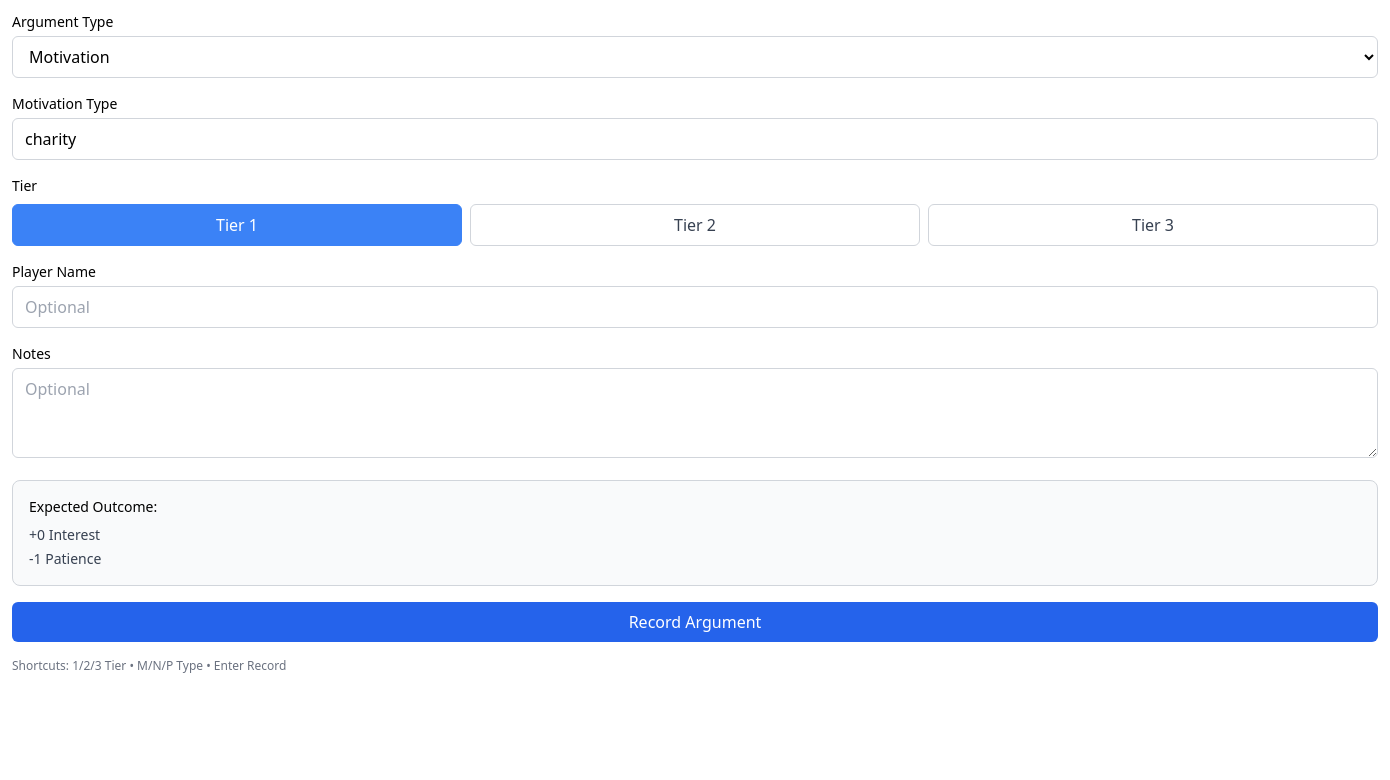
Test case: ArgumentControls Component - Outcome Preview (Issue #403 - TDD RED) › No-Motivation Arguments - Draw Steel Rules › should show tier 2 no-motivation: +0 interest, -1 patience
The image size is (1390, 780).
Click the button "Tier 2": (695, 225) [470, 204, 920, 246]
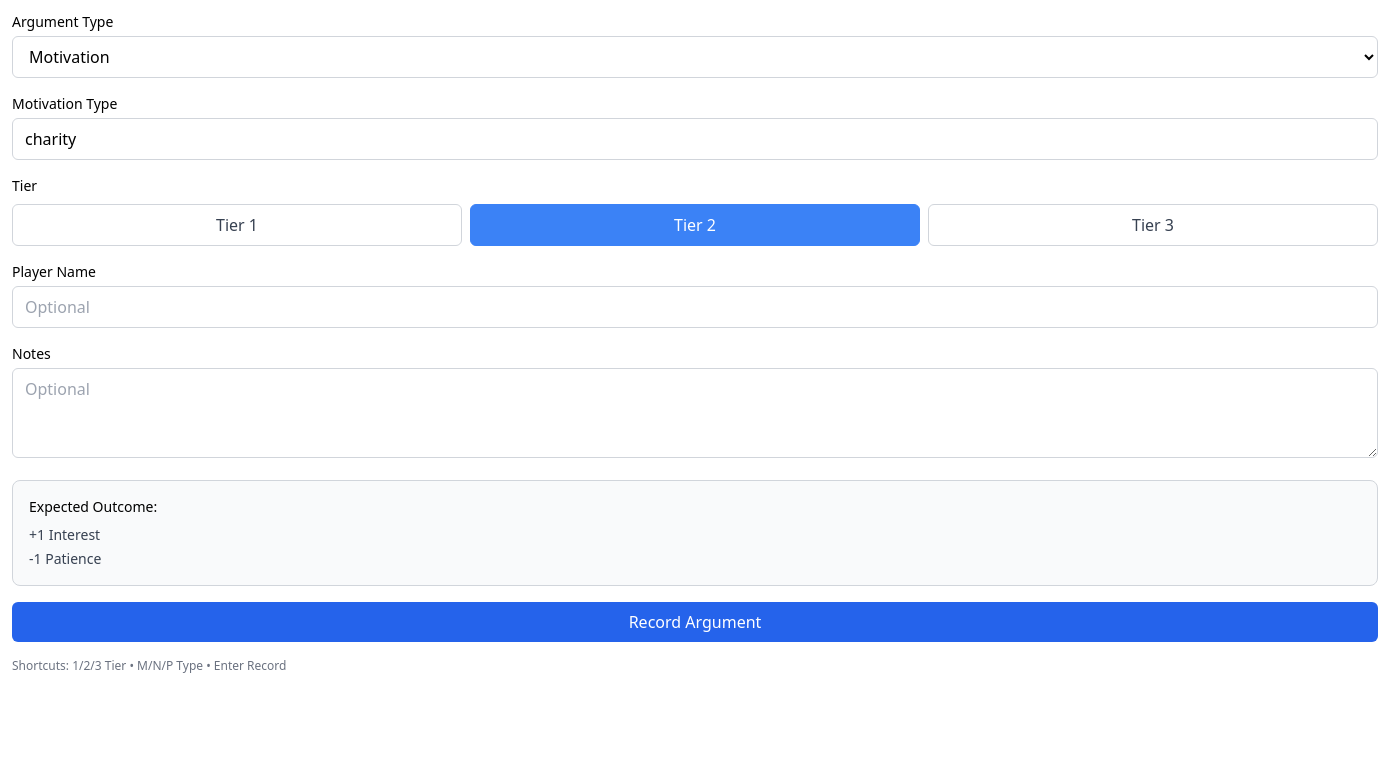
Select "Generic (No Motivation)" in the dropdown labelled "Argument Type": (695, 57) [12, 36, 1378, 78]
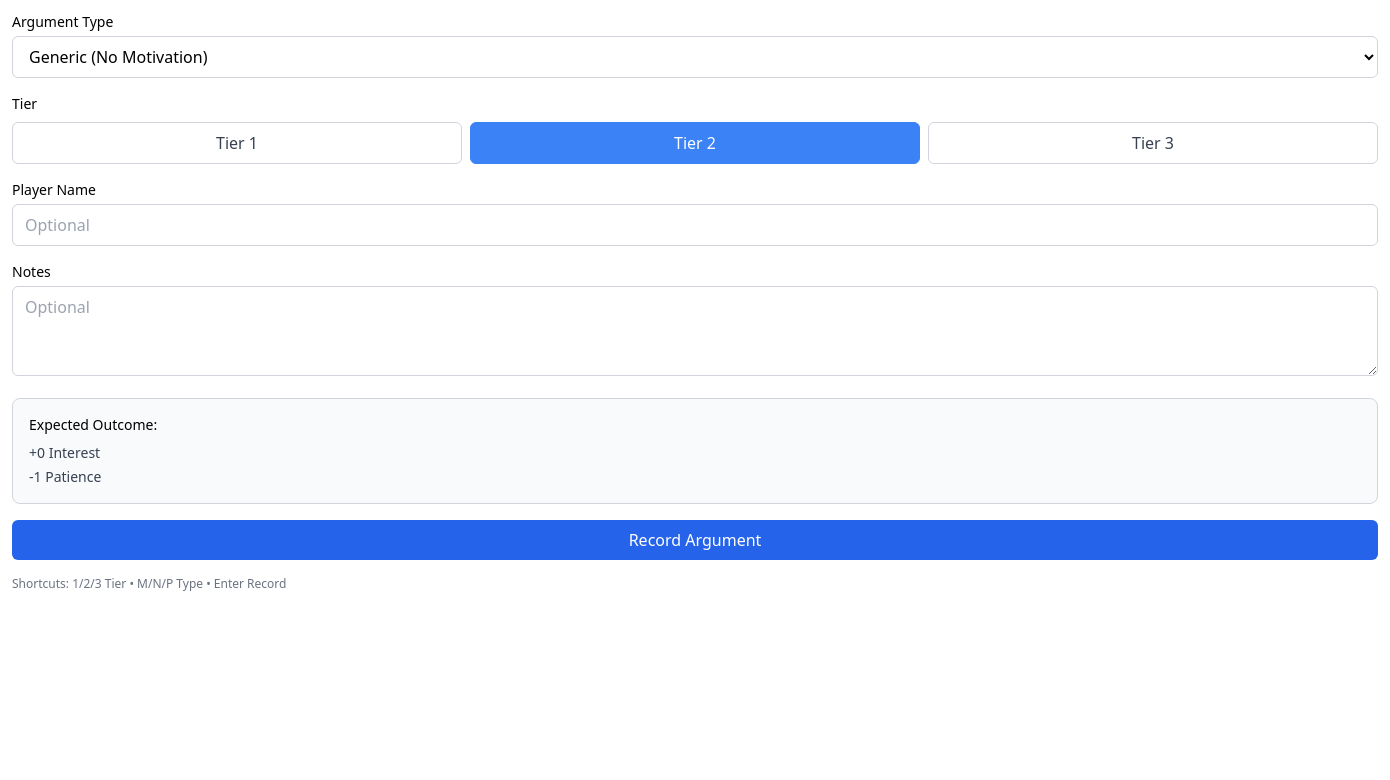
Check: the text "-1 Patience" is shown, box [29, 467, 101, 486]
Check: the text "+0 Interest" is shown, box [29, 443, 100, 462]
